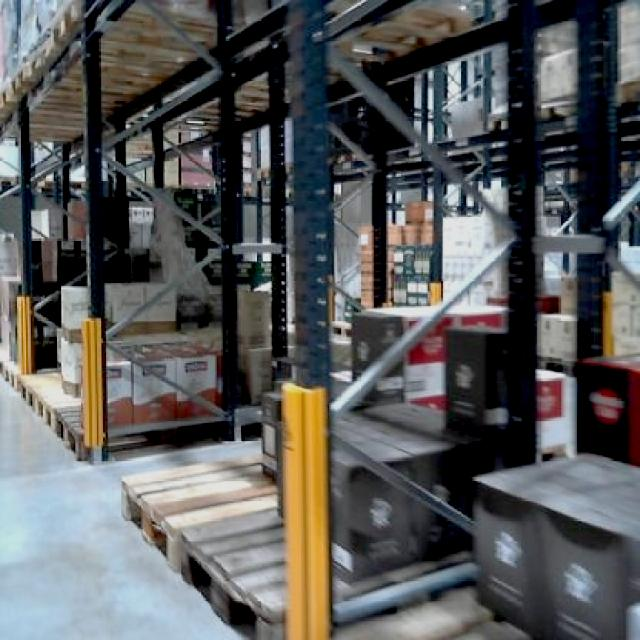pallets: (472, 452, 637, 637), (329, 443, 468, 577), (332, 403, 486, 509)
